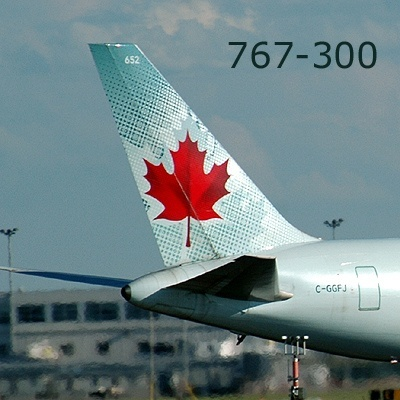aeroplane: (3, 42, 400, 372)
